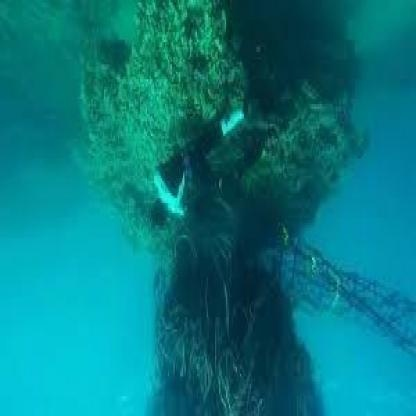net: (257, 204, 416, 372)
